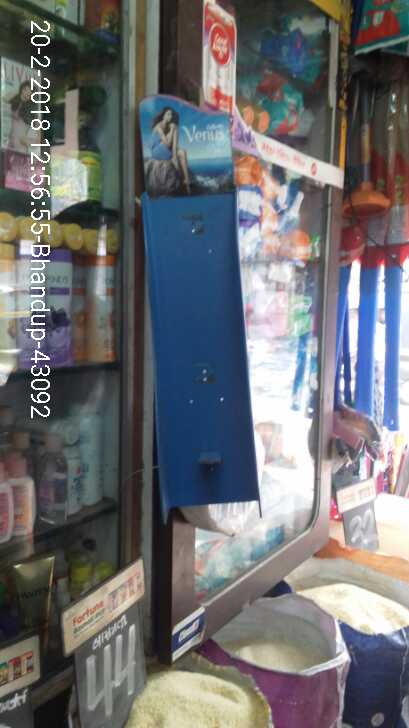reject: (143, 280, 276, 481)
